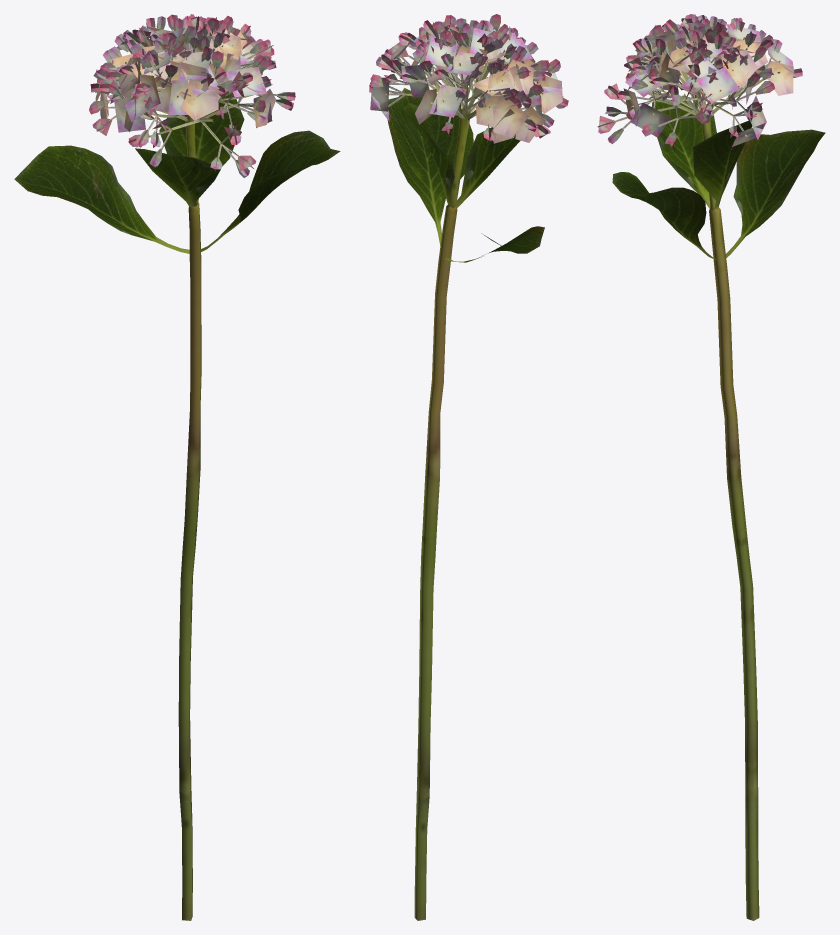
Rendered from Hydrangea_baby_long_red.glb.
The picture shows the model from 3 angles, left to right: view 1: azimuth 30°, elevation 25°; view 2: azimuth 150°, elevation 25°; view 3: azimuth 270°, elevation 25°; orthographic projection. The views are drawn at different scales.
Visible parts, largest first — view 1: BABY; view 2: BABY; view 3: BABY.
Boxes of the visible parts, x1,y1,x2,y2 form: BABY: [14, 14, 340, 920]; BABY: [369, 14, 568, 920]; BABY: [597, 14, 825, 920].
Size of the model in its own units: 0.7928 by 3.08 by 0.7195.
Materials: 1 (1 with a texture image).
